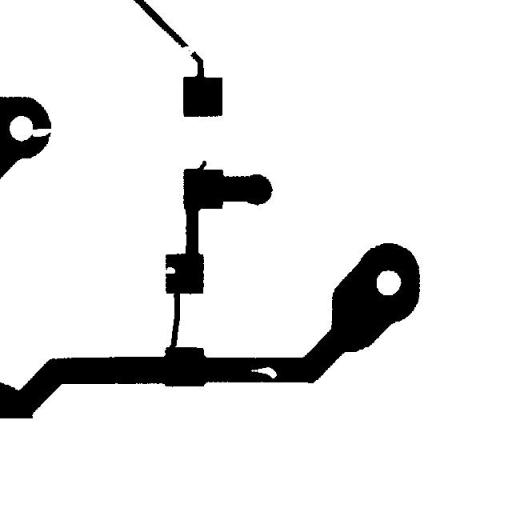mousebite: (152, 259, 182, 281)
open: (19, 121, 60, 144), (172, 38, 202, 62)
pin-hole: (243, 359, 284, 386)
short: (162, 282, 187, 356)
spur: (188, 153, 214, 180)
